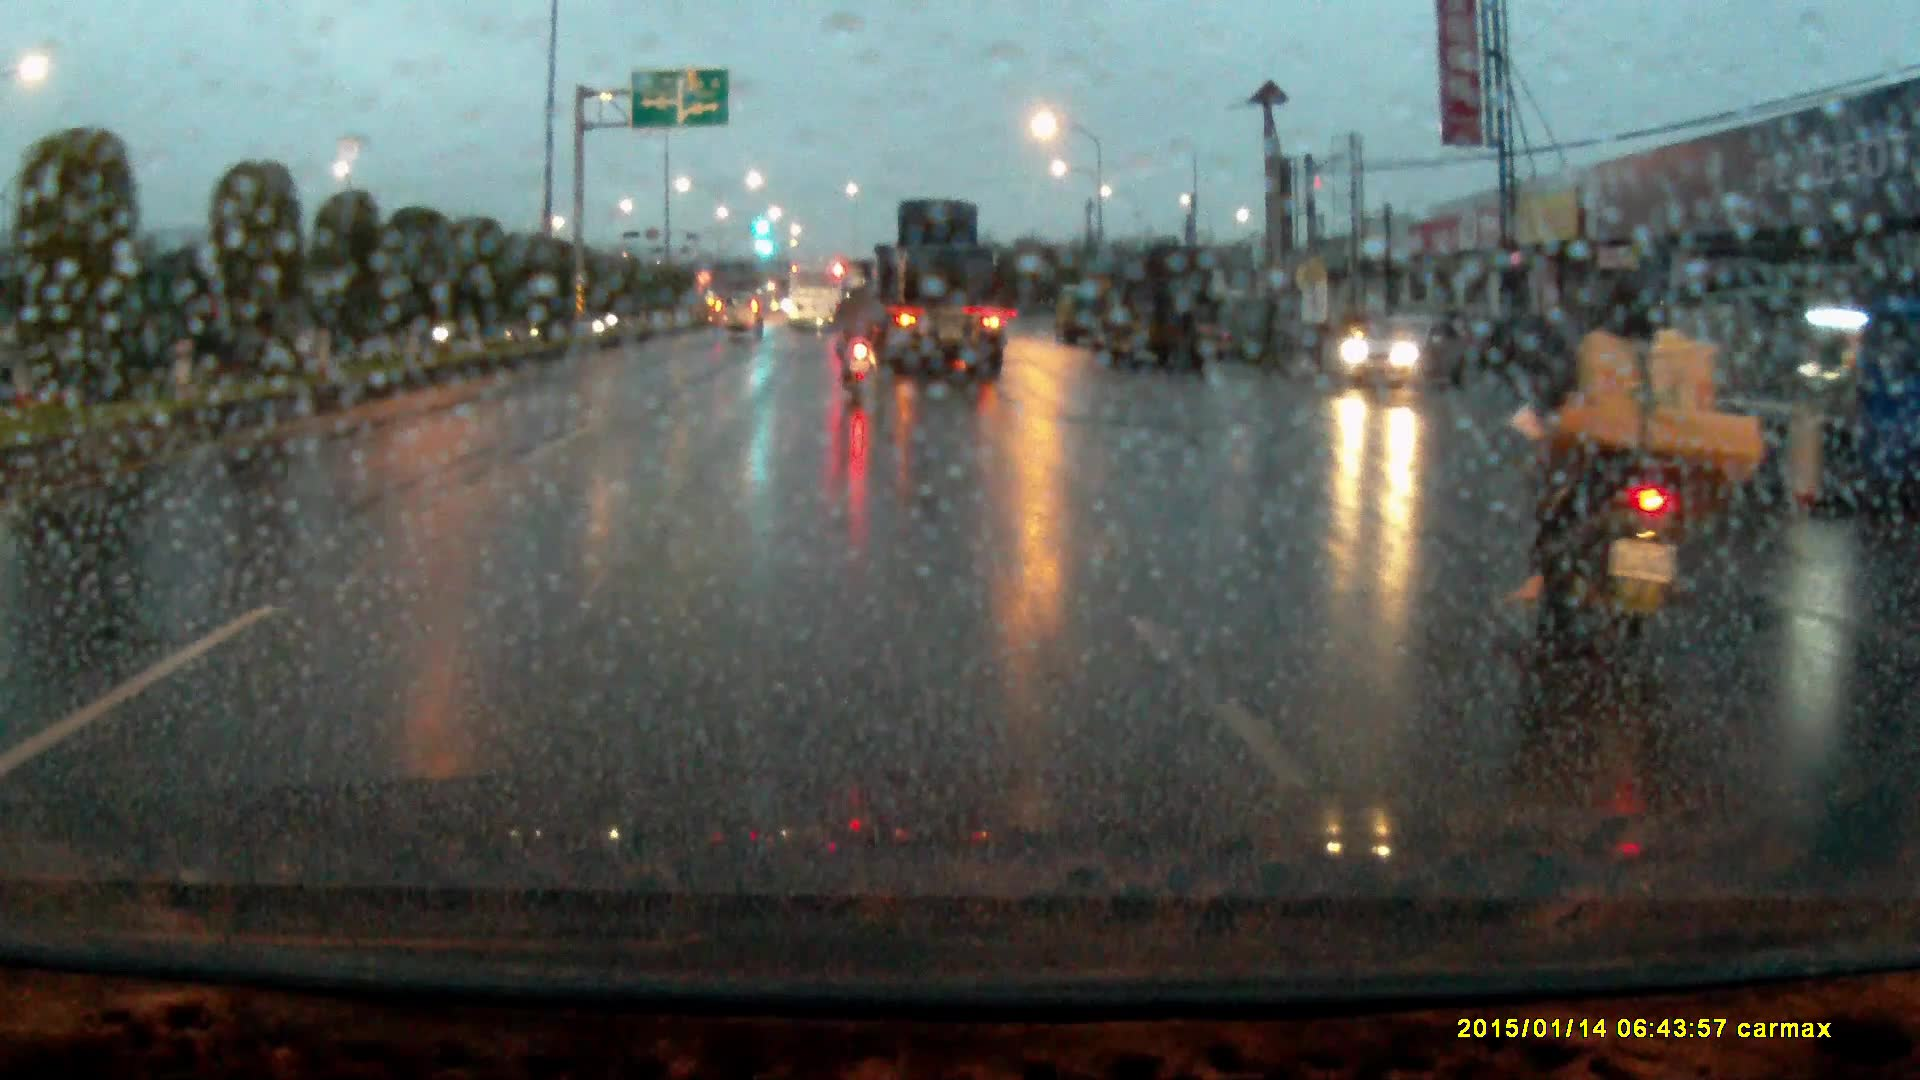rider: (1506, 249, 1785, 669), (832, 269, 888, 394)
vehicle: (1699, 285, 1920, 507), (862, 196, 1001, 375), (1099, 242, 1230, 371), (1339, 312, 1460, 388), (789, 262, 853, 332), (1054, 280, 1106, 341), (713, 286, 765, 338)
